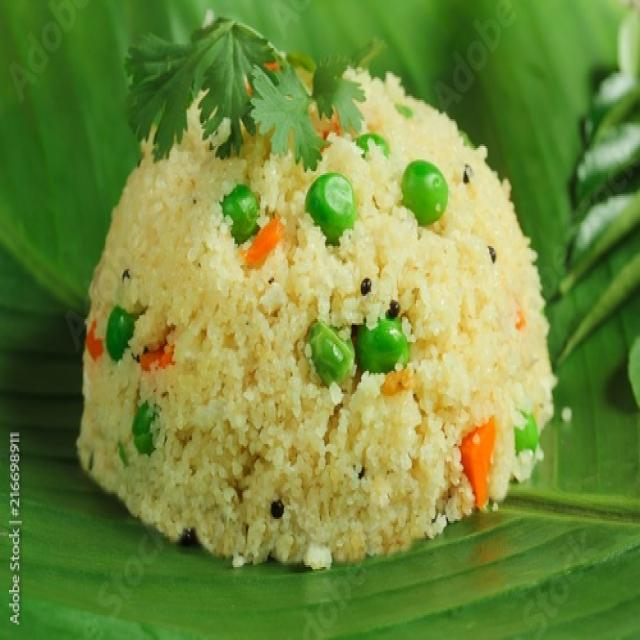UPMA: (77, 17, 553, 567), (77, 71, 554, 567)
